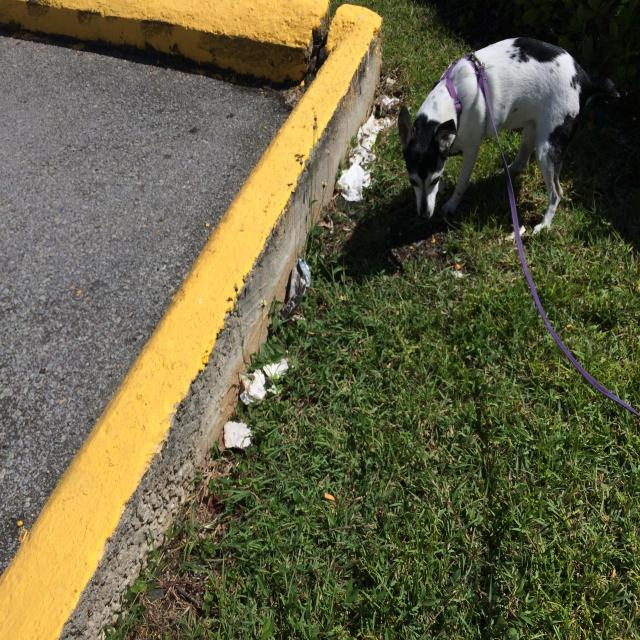litter: (337, 73, 396, 200), (235, 360, 282, 407), (285, 255, 313, 317), (223, 423, 250, 444)
